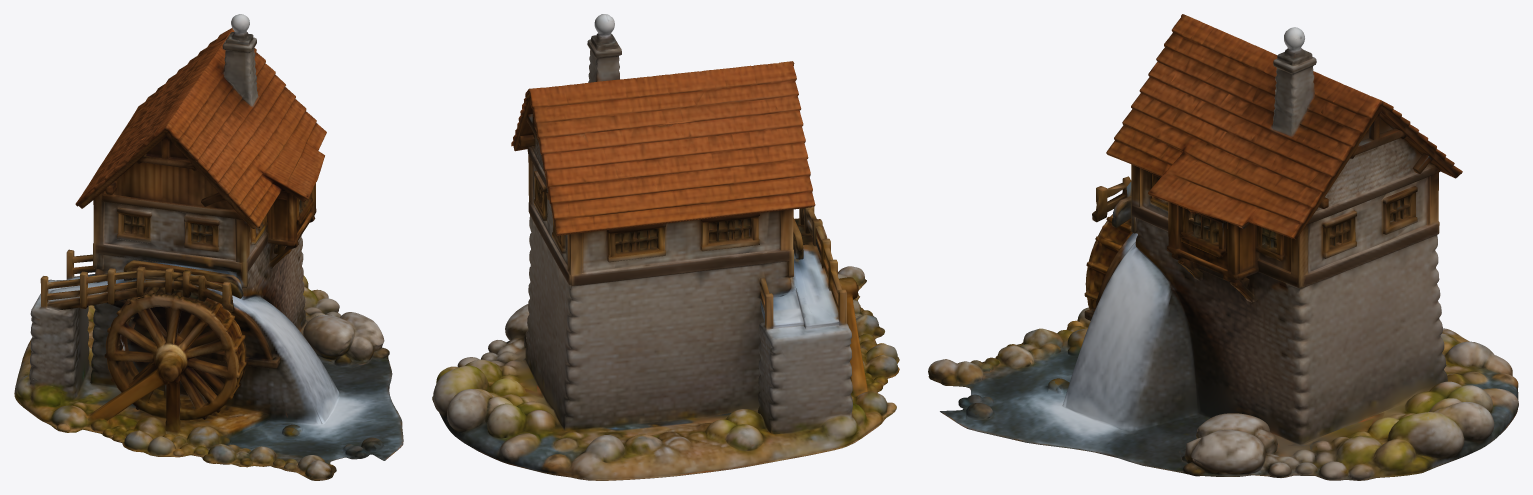
File: watermill.glb
The picture shows the model from 3 angles, left to right: view 1: azimuth 30°, elevation 25°; view 2: azimuth 150°, elevation 25°; view 3: azimuth 270°, elevation 25°; orthographic projection. The views are drawn at different scales.
Visible parts, largest first — view 1: material; view 2: material; view 3: material.
Boxes of the visible parts, left/top/right/bottom form: material: left=14, top=14, right=403, bottom=480; material: left=432, top=14, right=899, bottom=480; material: left=928, top=14, right=1518, bottom=480.
Bounding box in the file's own units: 0.7403 × 0.6944 × 0.9574.
Materials: 1 (1 with a texture image).
